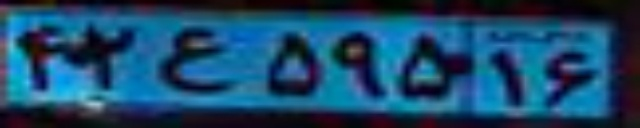1: (484, 47, 525, 106)
2: (79, 23, 138, 89)
4: (18, 24, 67, 90)
5: (393, 31, 458, 99), (264, 31, 320, 95)
6: (540, 49, 598, 109)
9: (328, 30, 385, 96)
ain: (157, 27, 232, 92)
